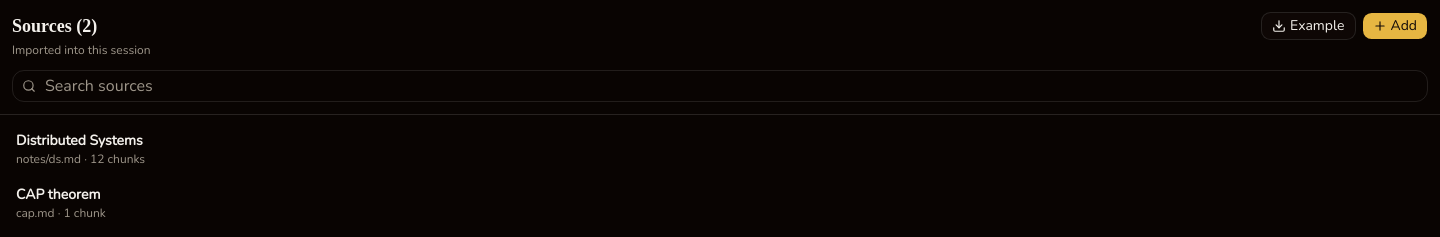
Test: StudySourcesPanel › filters the list by title or path as the user types
The image size is (1440, 237).
Expected: the text "Distributed Systems" is shown, 16,131 -> 143,150
// When searching for the other document's title
In the field with placeholder "Search sources": (720, 86) 12,70 -> 1428,102, type "cap theorem"
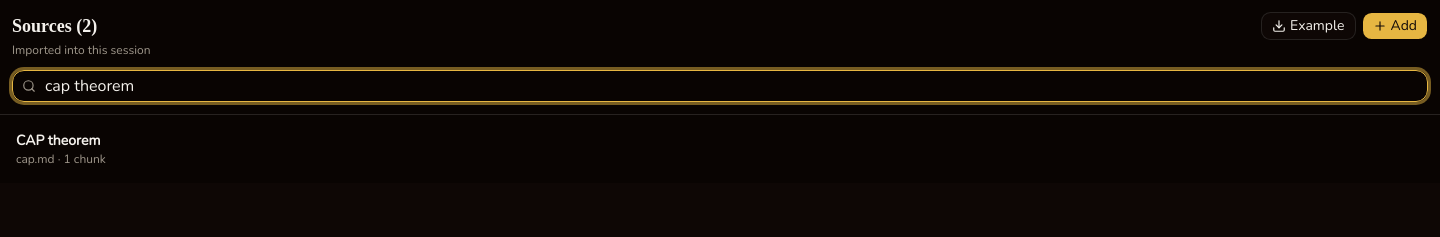
Expected: the text "CAP theorem" is shown, 16,131 -> 100,150
Expected: the button "Distributed Systems" is gone
